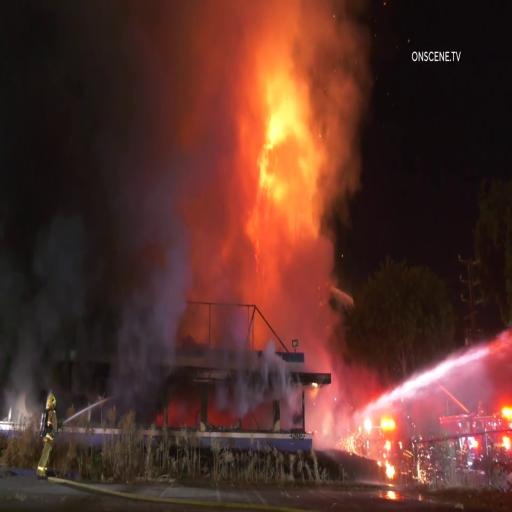fire: (256, 72, 315, 194)
smoke: (8, 1, 231, 352), (0, 138, 105, 394), (105, 210, 201, 405)
